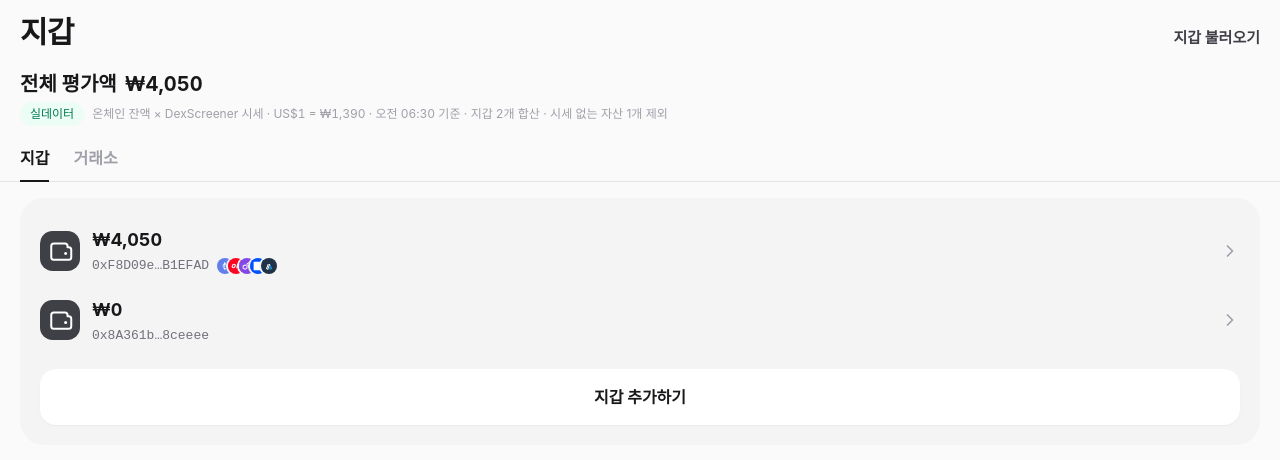
wallets list (지갑 탭) › switches to the 거래소 tab which is a 준비 중 group, not an empty wallet
Click the tab "거래소".
click(96, 164)  # box [74,146,118,182]
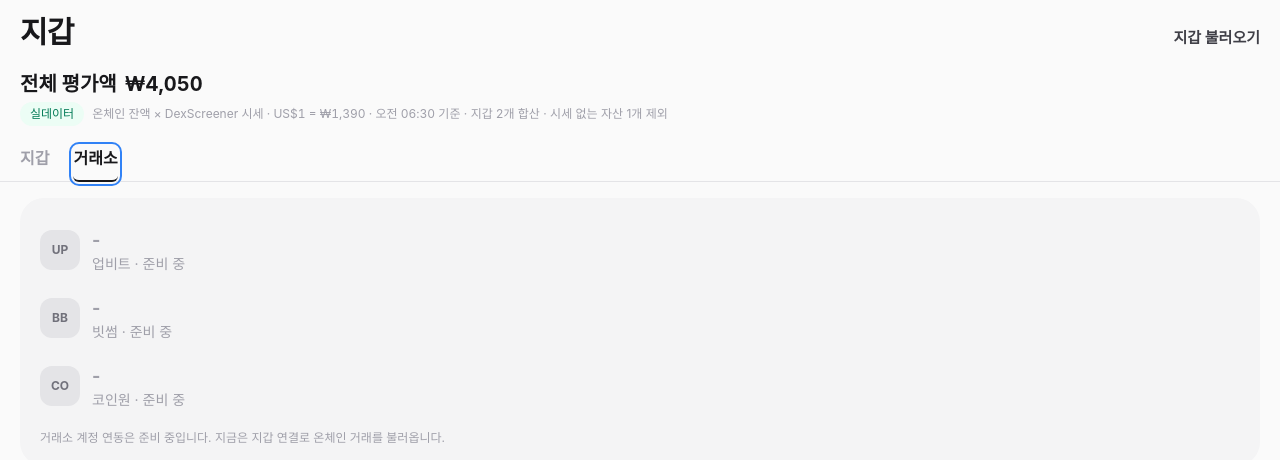
expect the text "업비트 · 준비 중" is shown: met, box [92,255,185,272]
